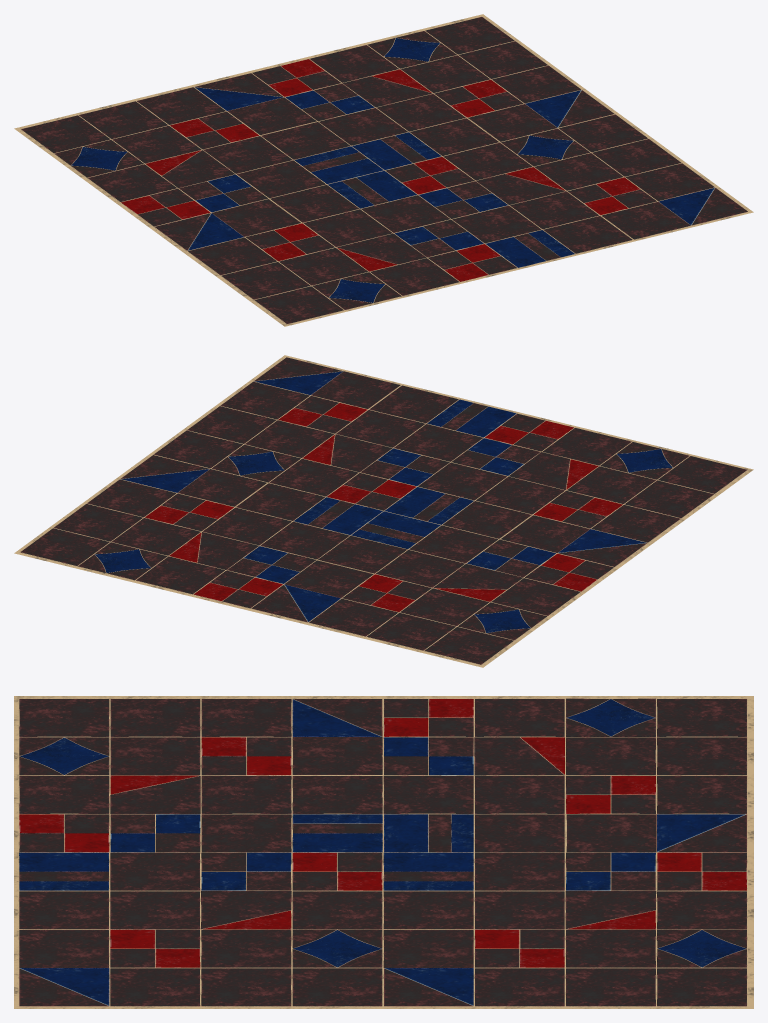
File: floor_StainedGlass.fbx
3 views of the same model, one above another, from view 1: azimuth 30°, elevation 25°; view 2: azimuth 150°, elevation 25°; view 3: azimuth 270°, elevation 25° (orthographic). The views are drawn at different scales.
Visible parts, largest first — view 1: pPlane2; view 2: pPlane2; view 3: pPlane2.
Part boxes in pixels (x1,y1,x2,y2): pPlane2: (14,14,753,326); pPlane2: (14,355,753,667); pPlane2: (14,696,753,1008).
Size of the model in its own units: 47.84 by 0.038 by 47.84.
